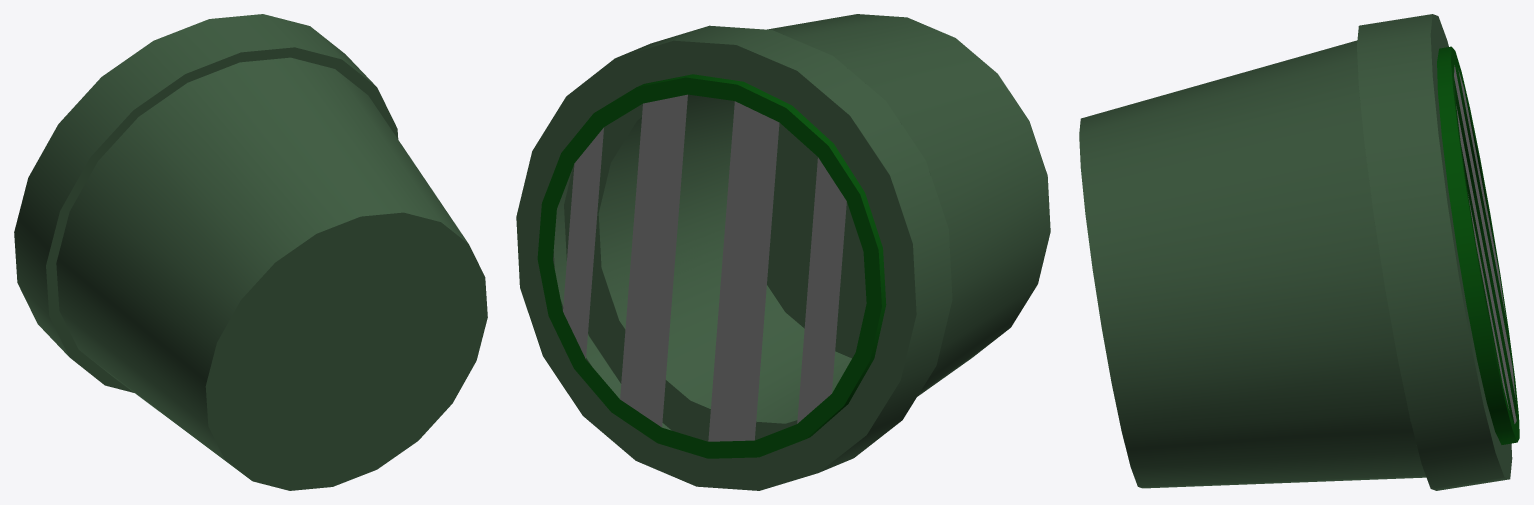
File: SearchlightHead.fbx
3 renders of one model, left to right at view 1: azimuth 30°, elevation 25°; view 2: azimuth 150°, elevation 25°; view 3: azimuth 270°, elevation 25°, orthographic. The views are drawn at different scales.
Visible parts, largest first — view 1: mqo_mesh; view 2: mqo_mesh; view 3: mqo_mesh.
Part boxes in pixels (x1,y1,x2,y2): mqo_mesh: (14, 14, 487, 490); mqo_mesh: (516, 14, 1050, 490); mqo_mesh: (1079, 14, 1519, 490).
Size of the model in its own units: 178 by 181 by 165.
